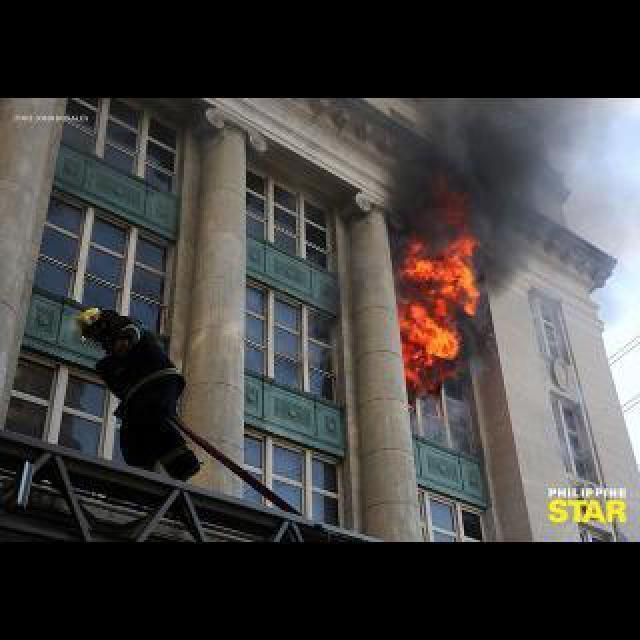fire: (382, 220, 490, 396)
smoke: (390, 97, 580, 280)
